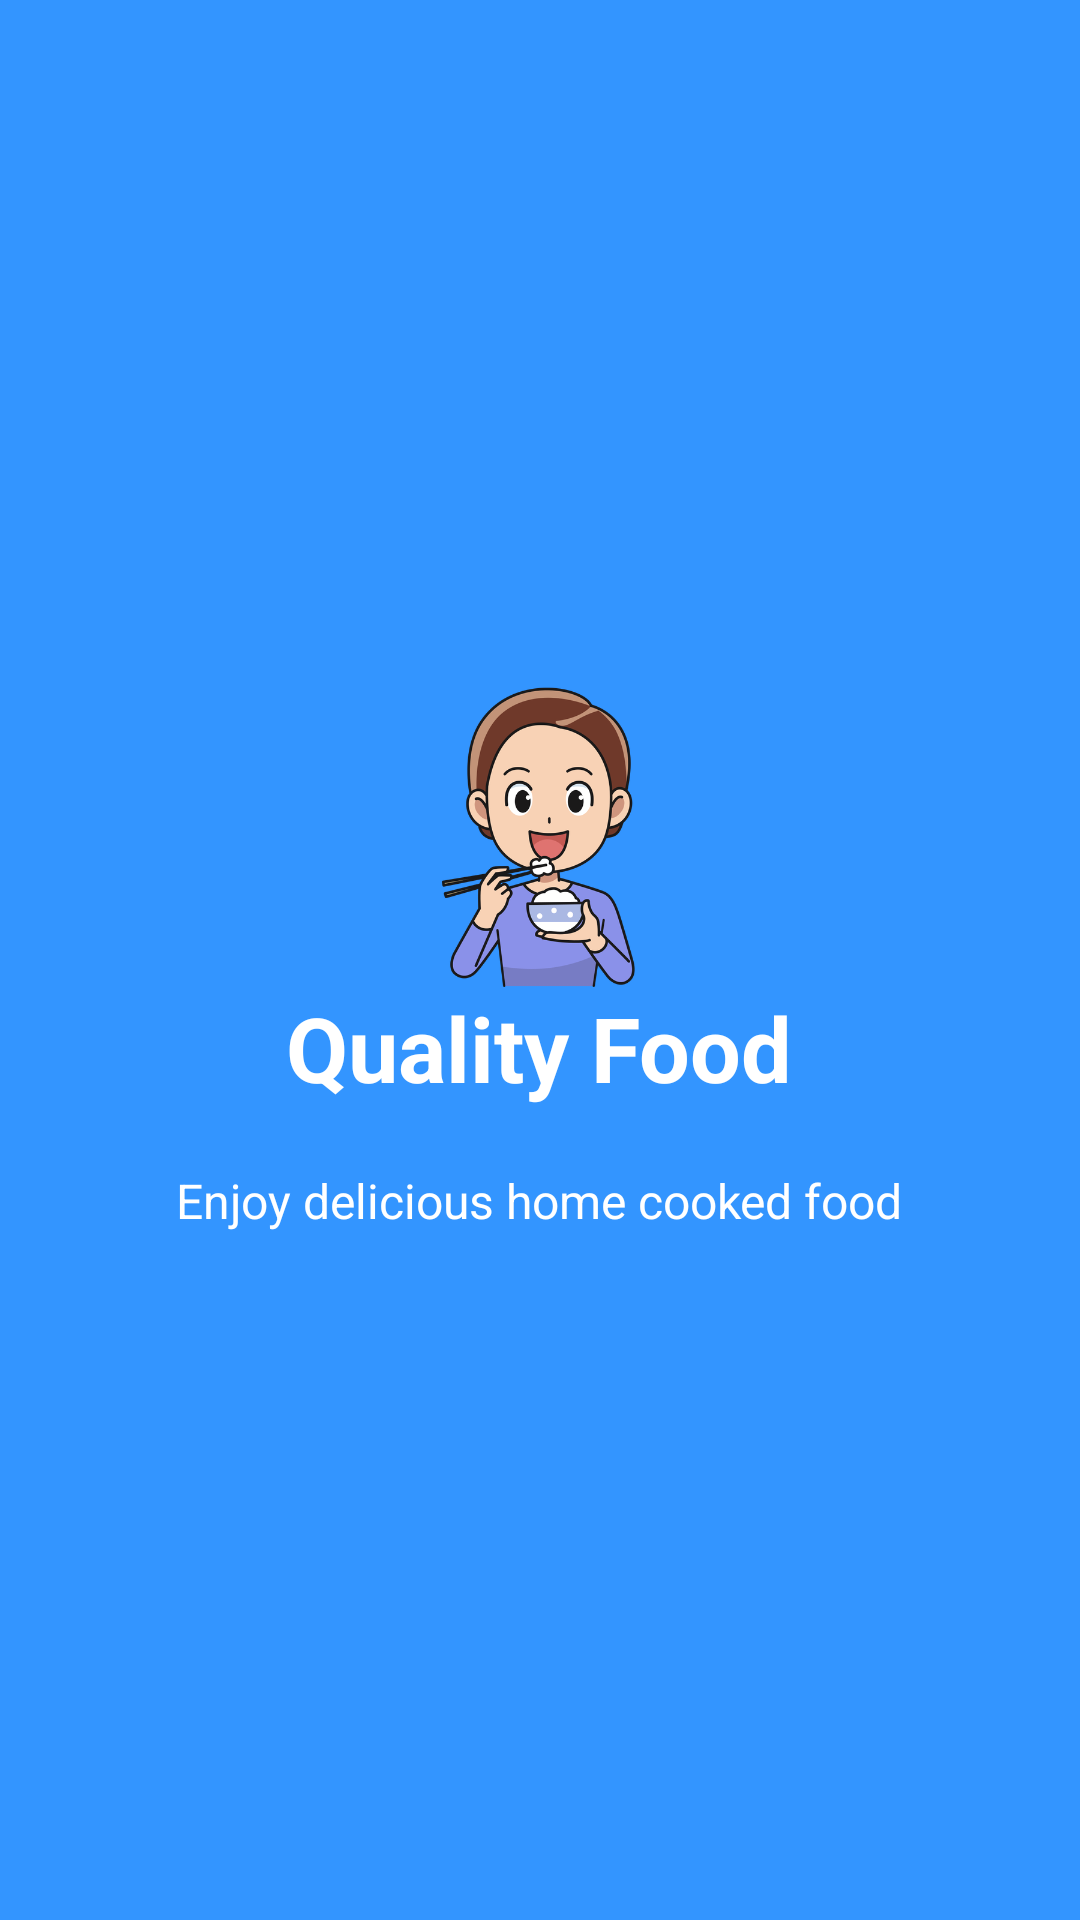

Named icons in this screenshot (1080px×1920px) and their bounding boxes, (x1, y1, x2, y2):
foody: (442, 687, 635, 987)
